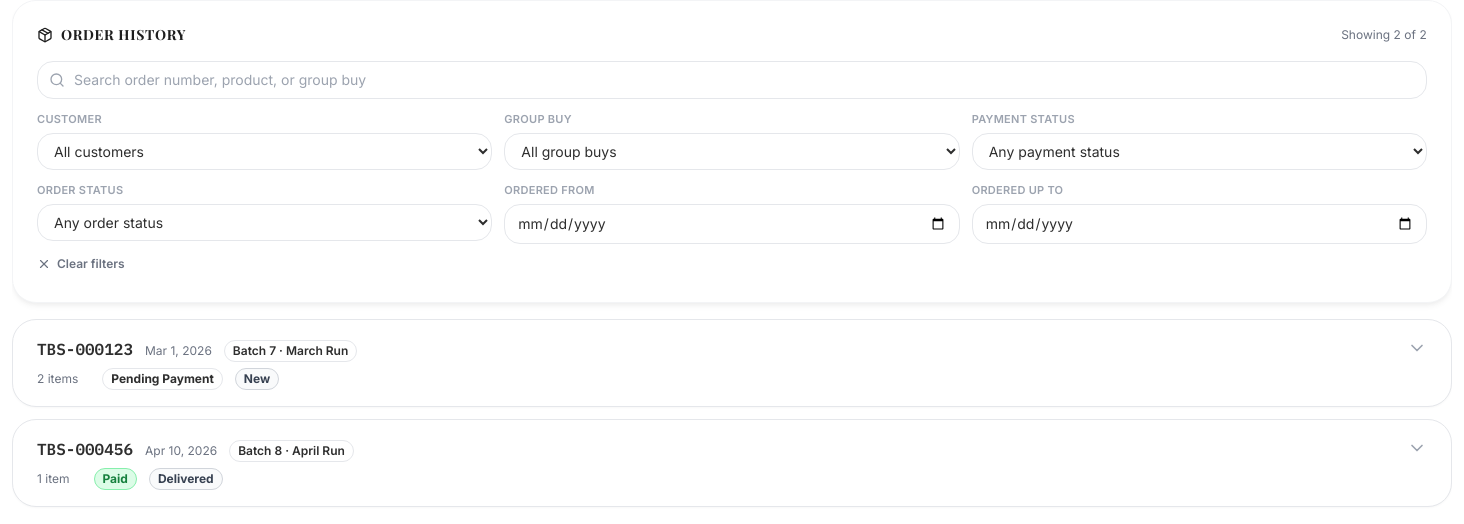
Test: OrderHistoryPanel › filters by payment status
Select "Paid" in the dropdown labelled "Payment status" at (1199, 151), box [972,133,1427,170]
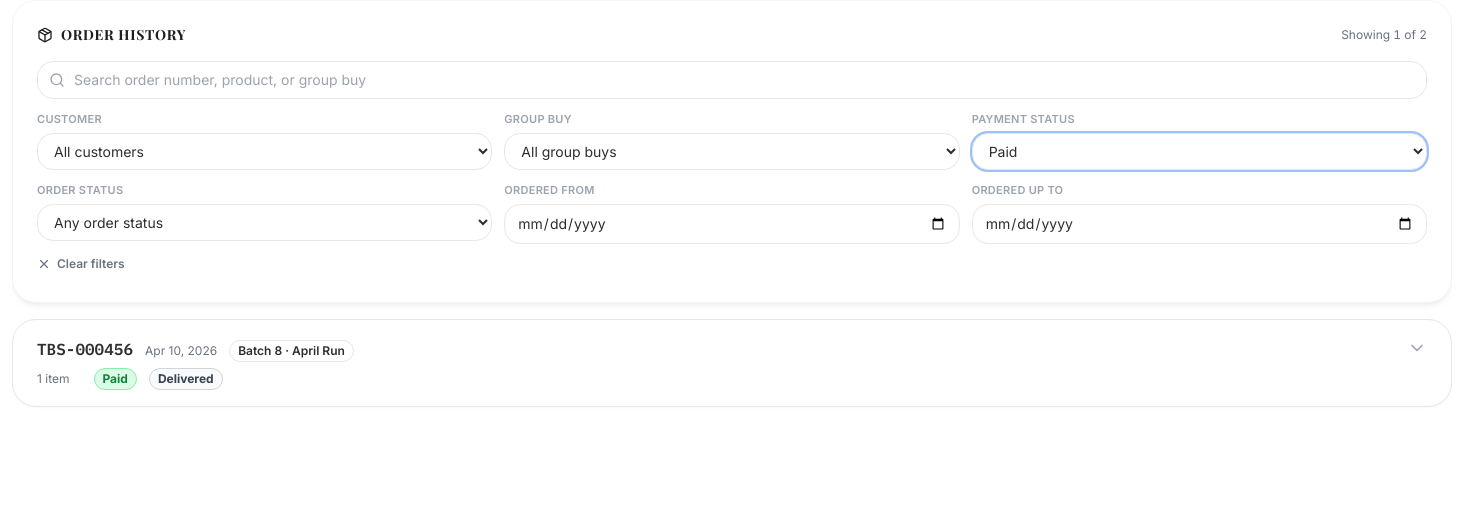
Expected: the button "TBS-000123" is gone
